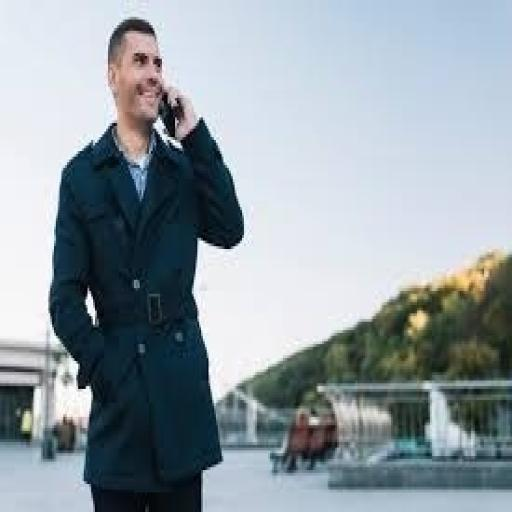calling: (46, 14, 246, 509)
